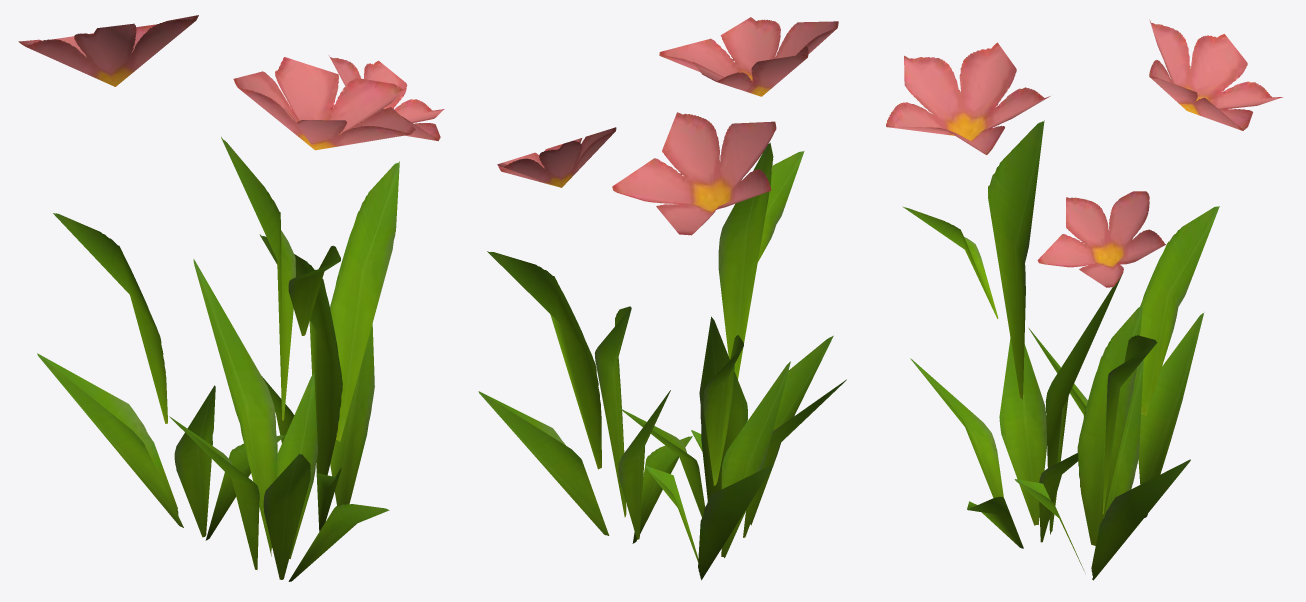
File: Flower_3_Group.low.gltf
3 renders of one model, left to right at view 1: azimuth 30°, elevation 25°; view 2: azimuth 150°, elevation 25°; view 3: azimuth 270°, elevation 25°, orthographic. The views are drawn at different scales.
Visible parts, largest first — view 1: Flower_3_Group; view 2: Flower_3_Group; view 3: Flower_3_Group.
Part boxes in pixels (left/top/right/bottom): Flower_3_Group: left=18, top=15, right=444, bottom=581; Flower_3_Group: left=478, top=17, right=846, bottom=580; Flower_3_Group: left=886, top=19, right=1282, bottom=580.
Bounding box in the file's own units: 1.49 × 2.05 × 1.59.
2 materials, 2 textured.
